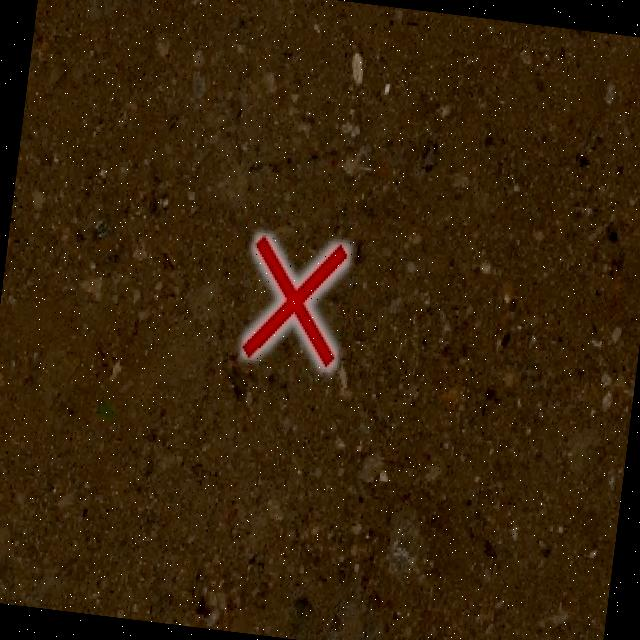x_marker: (242, 236, 346, 366)
